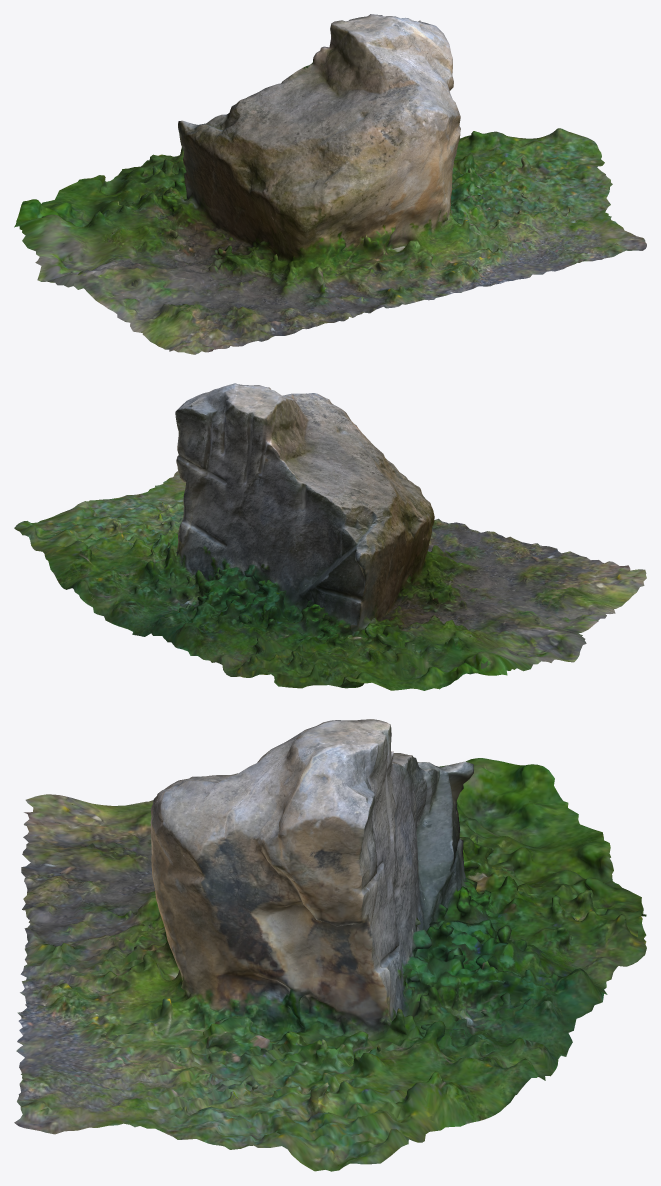
File: Stein_scan.glb
The picture shows the model from 3 angles, top to bottom: view 1: azimuth 30°, elevation 25°; view 2: azimuth 150°, elevation 25°; view 3: azimuth 270°, elevation 25°; orthographic projection. The views are drawn at different scales.
Parts seen in each view (by area): view 1: node; view 2: node; view 3: node.
Part boxes in pixels (<box>): node: <box>14,14,646,354</box>; node: <box>14,383,646,690</box>; node: <box>14,719,646,1171</box>.
Size of the model in its own units: 2.04 by 0.6928 by 1.36.
Materials: 1 (1 with a texture image).
